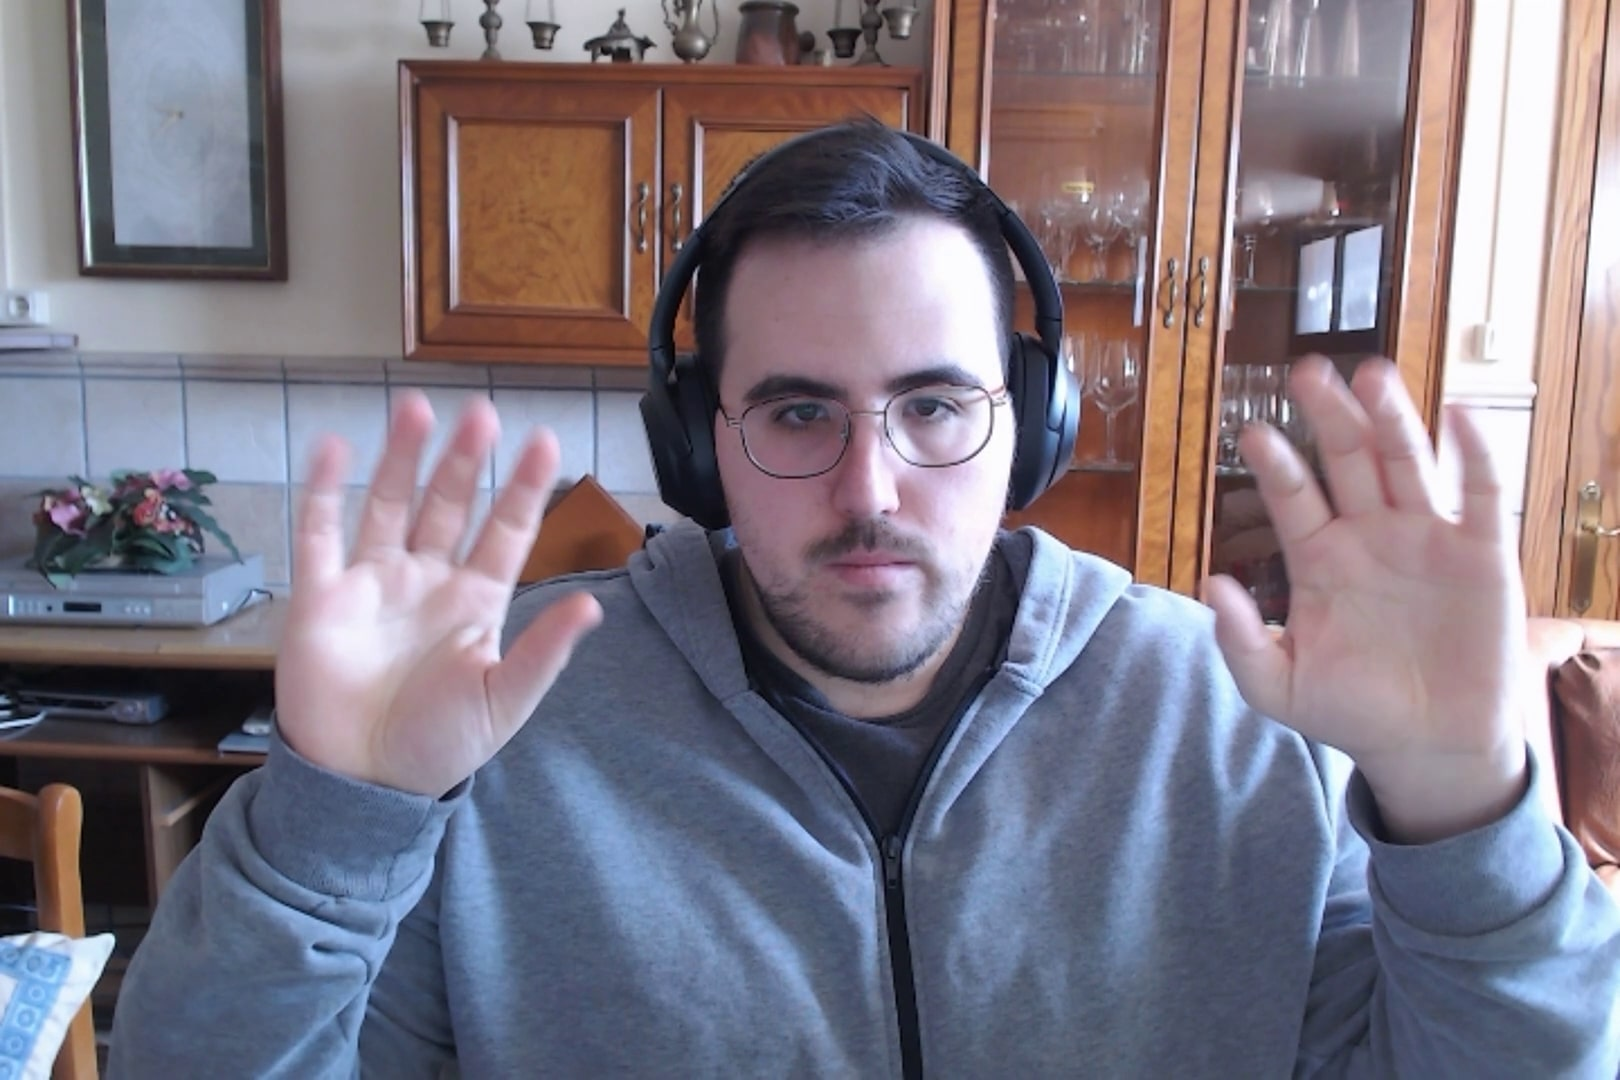hand: (1196, 345, 1559, 786), (258, 385, 620, 805)
